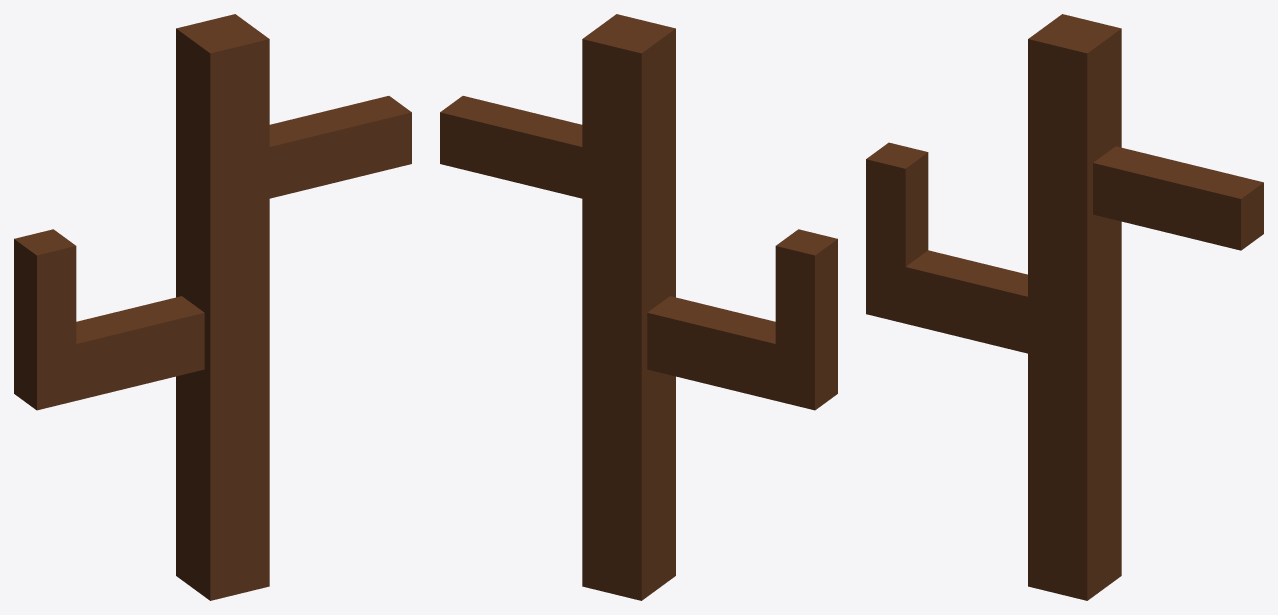
The model's file is DeadTree.fbx.
The picture shows the model from 3 angles, left to right: view 1: azimuth 30°, elevation 25°; view 2: azimuth 150°, elevation 25°; view 3: azimuth 330°, elevation 25°; orthographic projection.
Visible parts, largest first — view 1: DeadTree; view 2: DeadTree; view 3: DeadTree.
Boxes of the visible parts, bbox=[...] form: DeadTree: bbox=[14, 14, 411, 600]; DeadTree: bbox=[440, 14, 837, 600]; DeadTree: bbox=[866, 14, 1263, 600].
Bounding box in the file's own units: 38 × 53 × 6.
